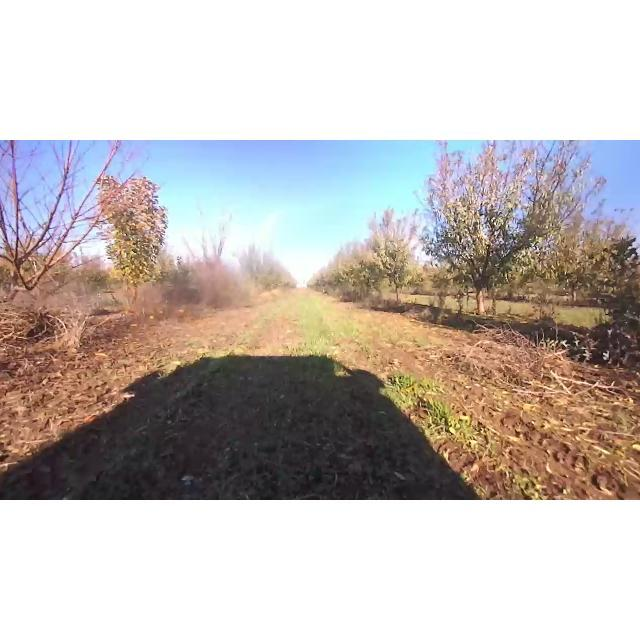tree: (414, 143, 610, 325), (0, 142, 162, 336), (92, 170, 176, 320), (362, 207, 424, 313), (546, 230, 622, 304), (340, 240, 392, 302)
